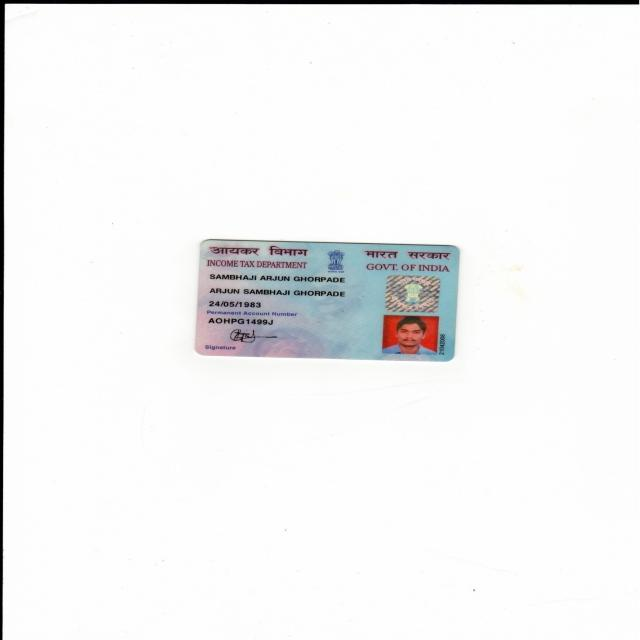pan_card: (195, 241, 461, 358)
